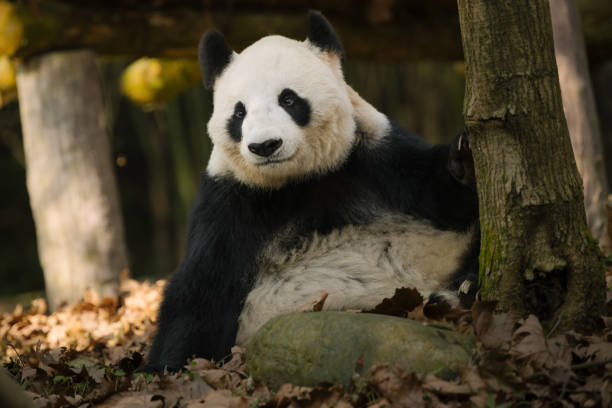panda: (183, 13, 382, 189)
